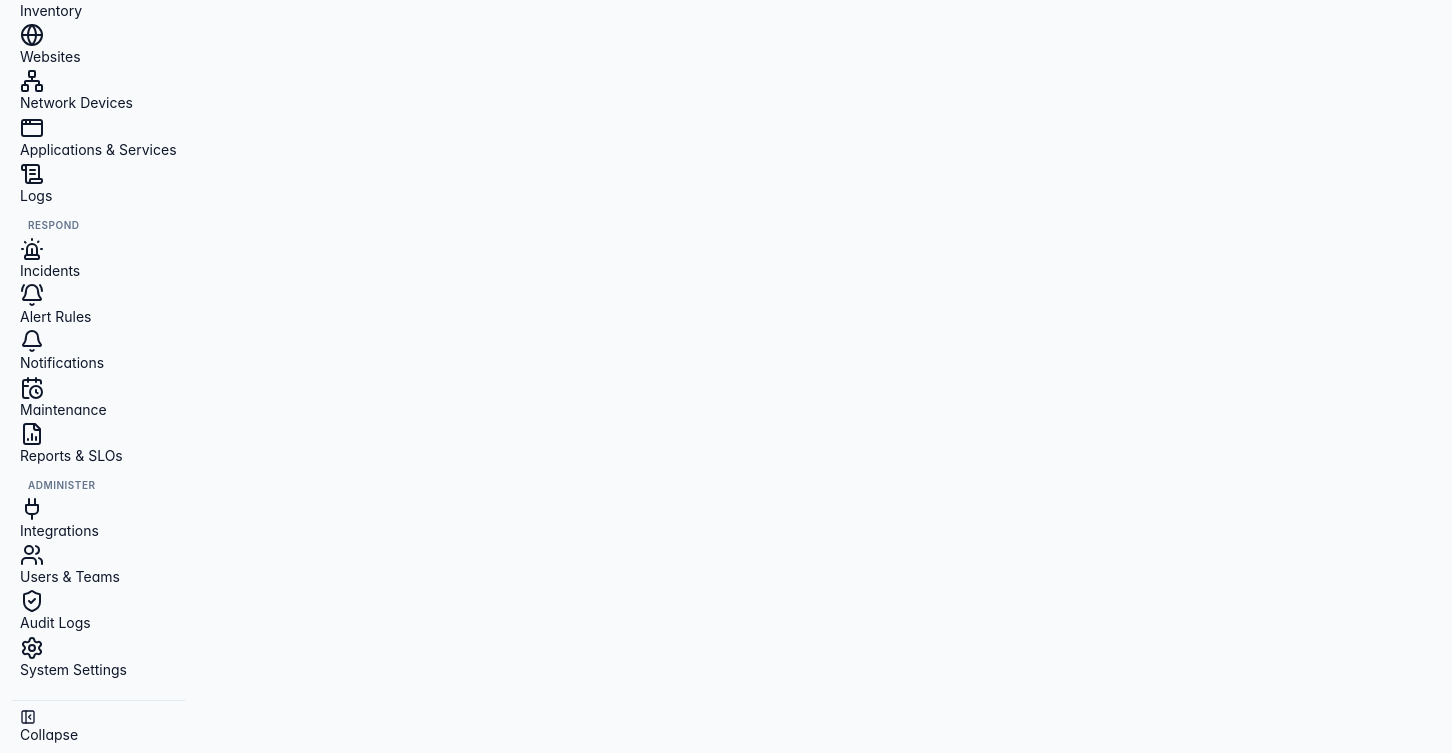
Test case: app layout › collapses and expands the sidebar and remembers the choice
(page scrolled)
Step 1. Click the button with aria-label "Collapse sidebar" → (49, 727), box [20, 709, 78, 745]
(page scrolled)
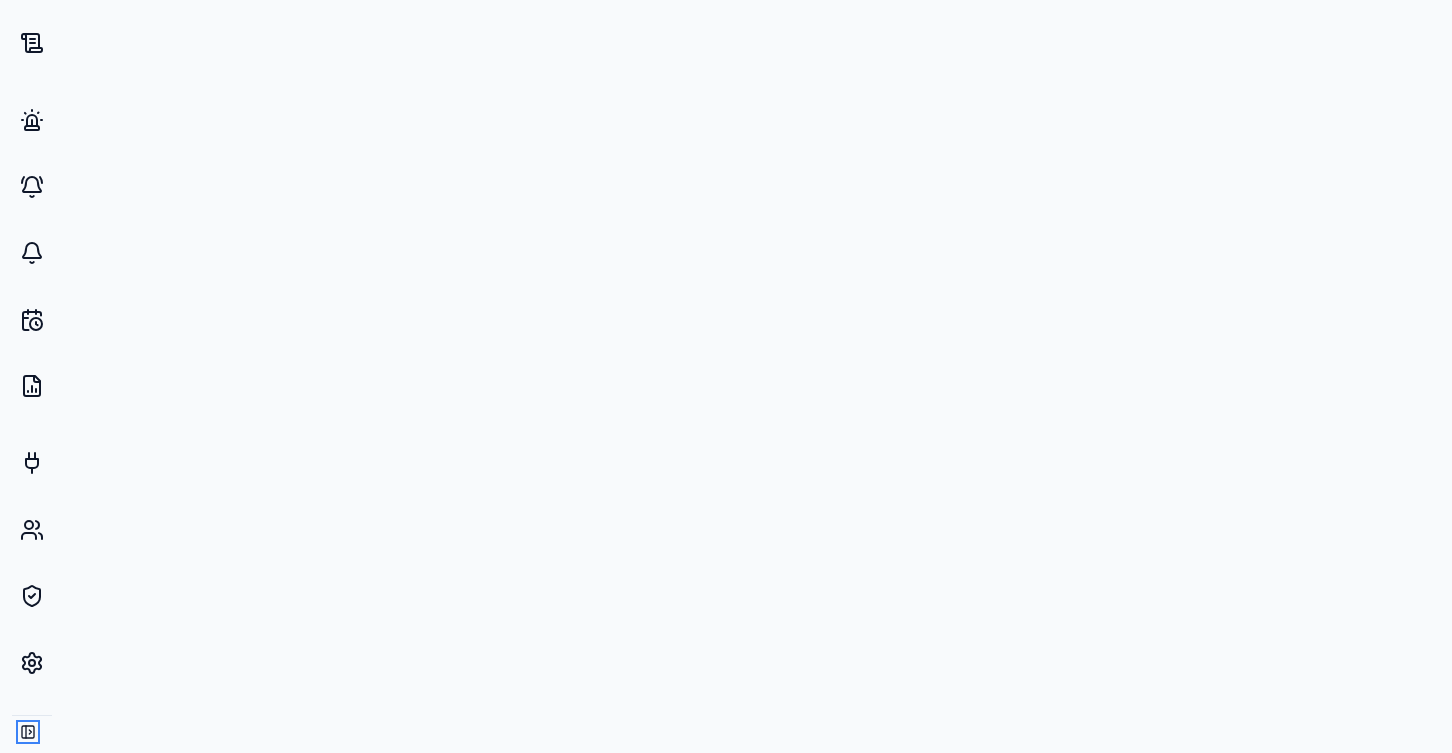
Check: the button named "Expand sidebar" is collapsed
Step 2. Click the button named "Expand sidebar" → (28, 732), box [20, 724, 36, 740]
(page scrolled)
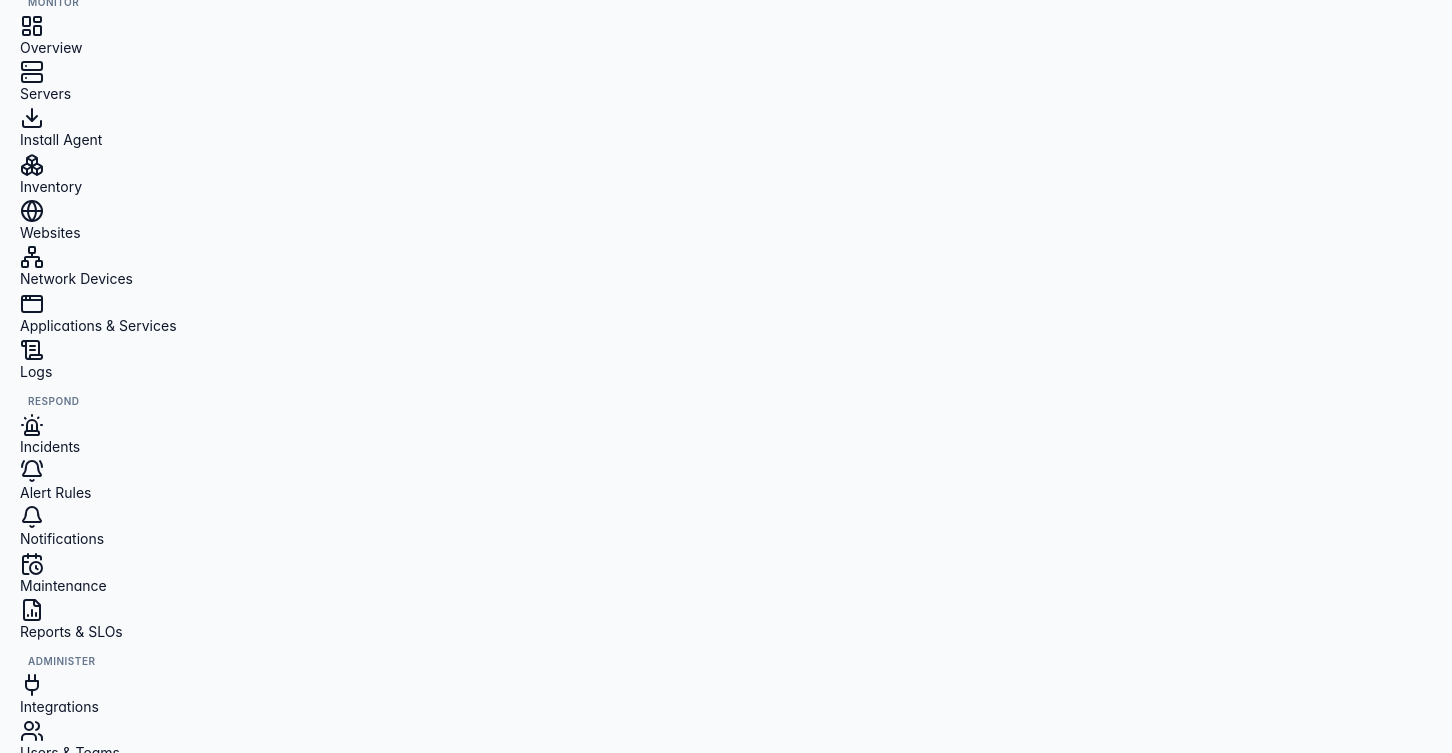
Check: the text "Overview" is shown, box [20, 39, 83, 56]
